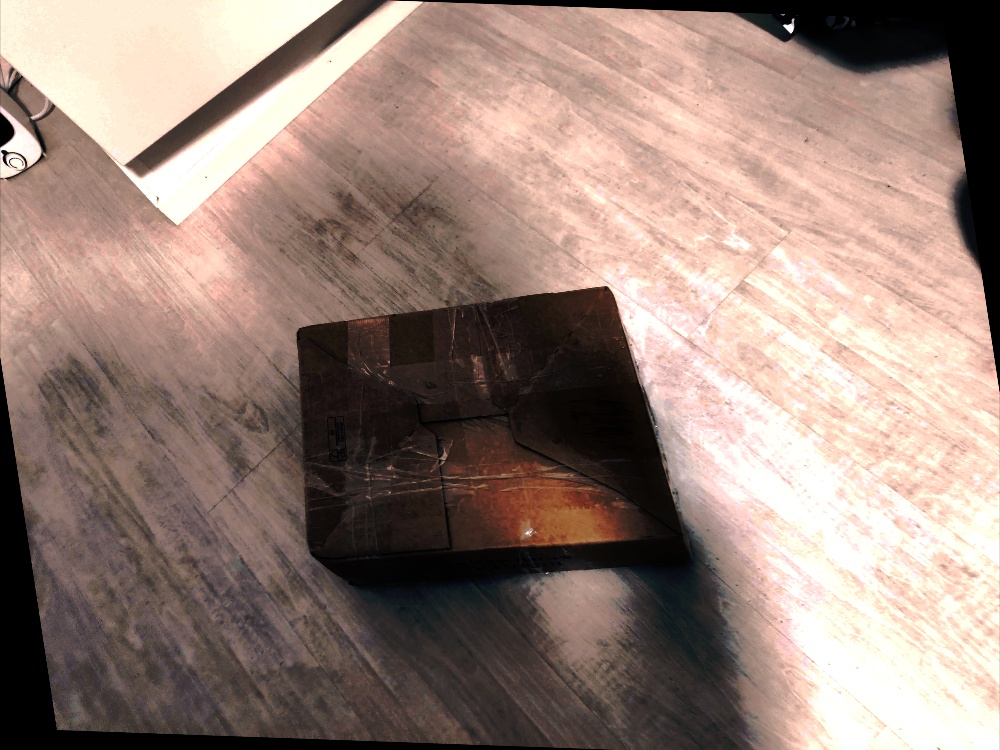good-parcel: (249, 279, 728, 603)
